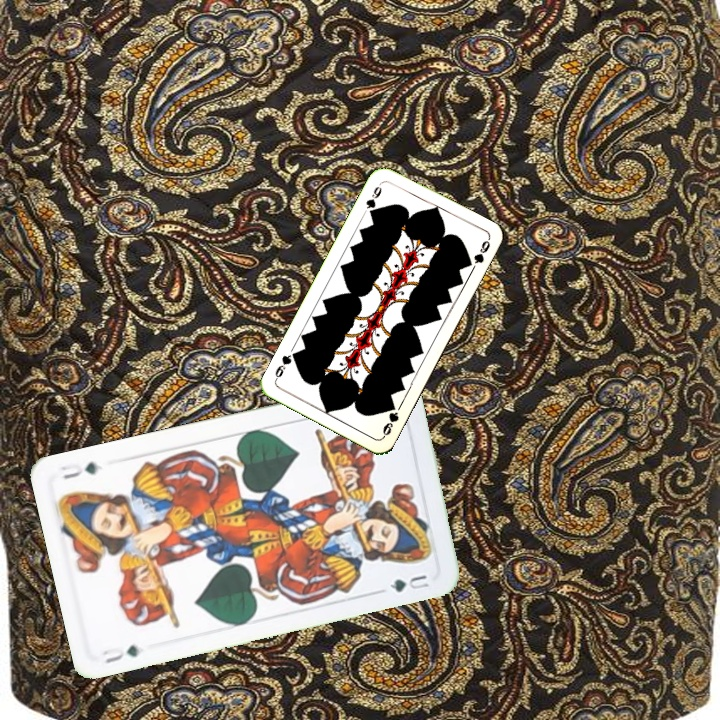G9: (378, 399, 402, 440), (362, 179, 385, 218)
GU: (99, 640, 142, 666)
